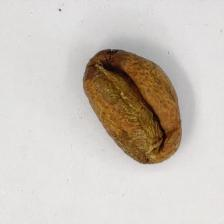NG: (100, 78, 184, 166), (94, 48, 166, 96)
